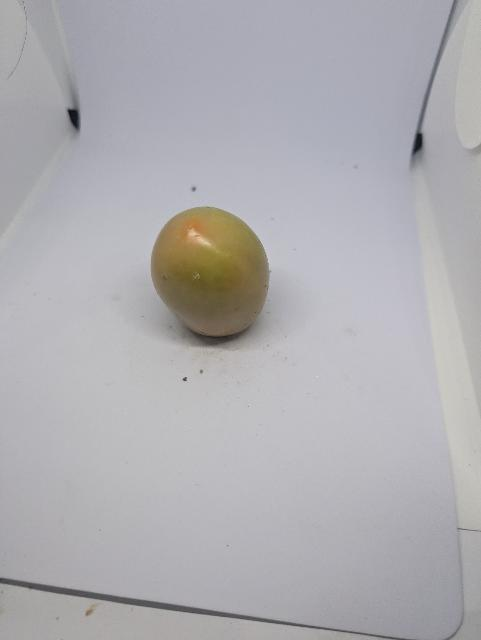breaker: (151, 207, 270, 336)
